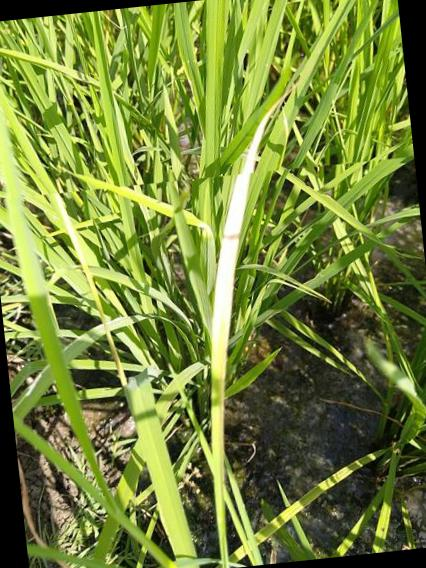Leaf Blight: (209, 92, 289, 485)
